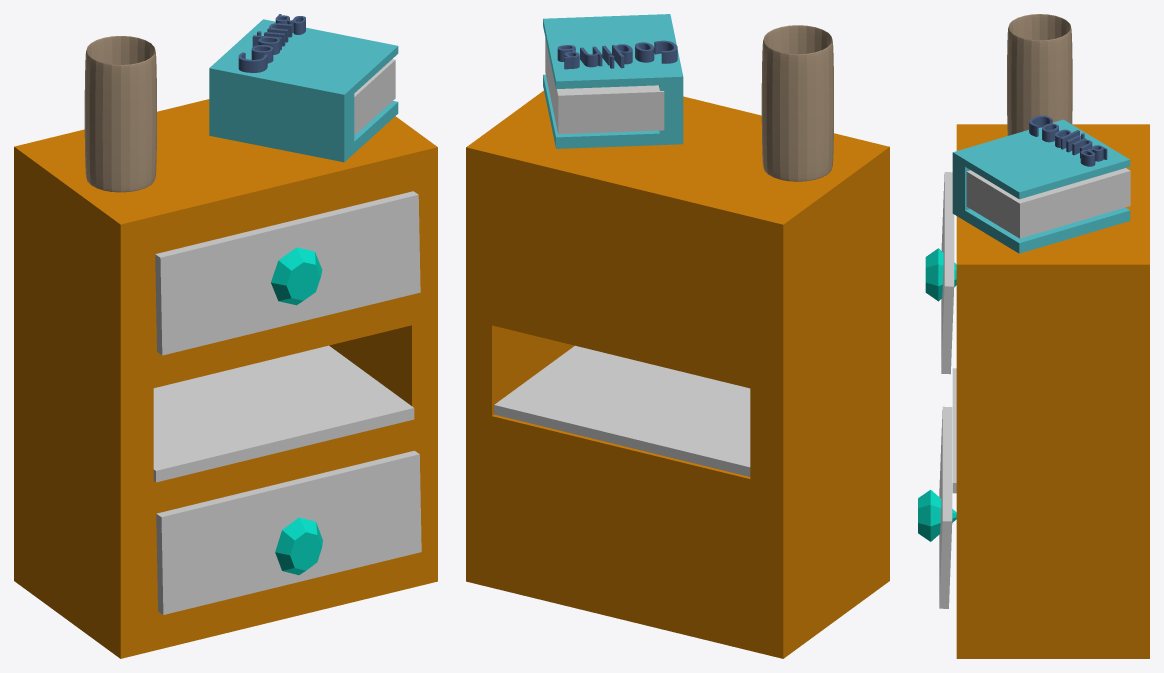
The model's file is sidetable.glb.
3 views of the same model, side by side, from view 1: azimuth 30°, elevation 25°; view 2: azimuth 150°, elevation 25°; view 3: azimuth 270°, elevation 25° (orthographic). The views are drawn at different scales.
Visible parts, largest first — view 1: Mesh_Mesh_head_geo.001_lambert2SG.001; view 2: Mesh_Mesh_head_geo.001_lambert2SG.001; view 3: Mesh_Mesh_head_geo.001_lambert2SG.001.
Boxes of the visible parts, x1=… form: Mesh_Mesh_head_geo.001_lambert2SG.001: x1=14, y1=14, x2=437, y2=658; Mesh_Mesh_head_geo.001_lambert2SG.001: x1=466, y1=14, x2=889, y2=658; Mesh_Mesh_head_geo.001_lambert2SG.001: x1=918, y1=14, x2=1149, y2=658.
Bounding box in the file's own units: 86 × 146 × 60.
